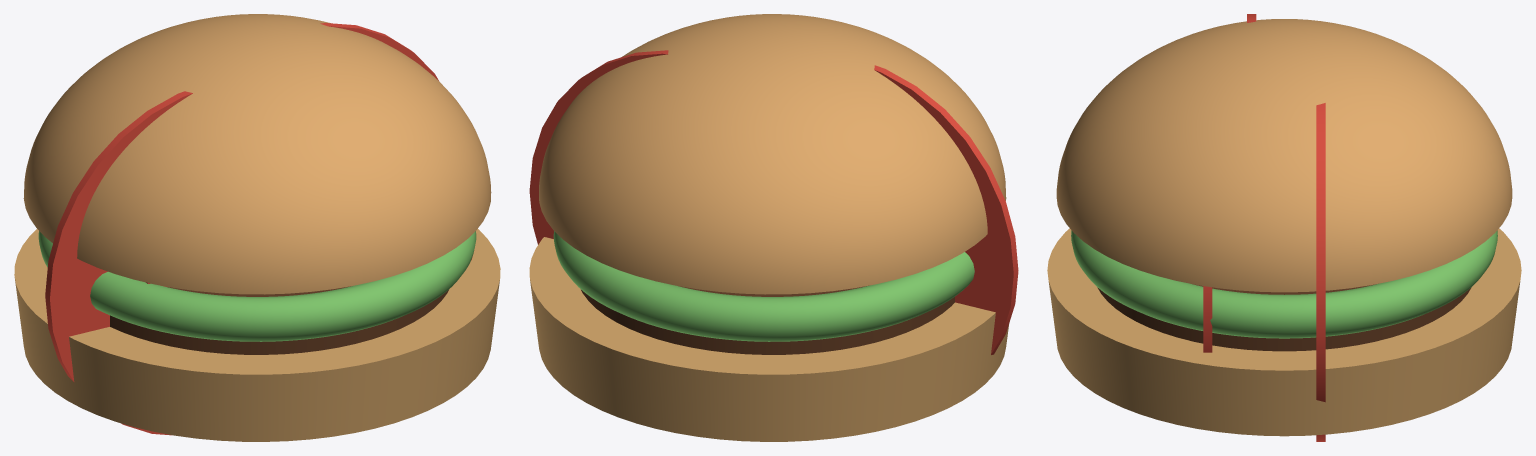
File: burger.glb
3 views of the same model, side by side, from view 1: azimuth 30°, elevation 25°; view 2: azimuth 150°, elevation 25°; view 3: azimuth 270°, elevation 25° (orthographic). The views are drawn at different scales.
Size of what is drawn, in the model's own units: 2.27 by 1.74 by 2.13.
